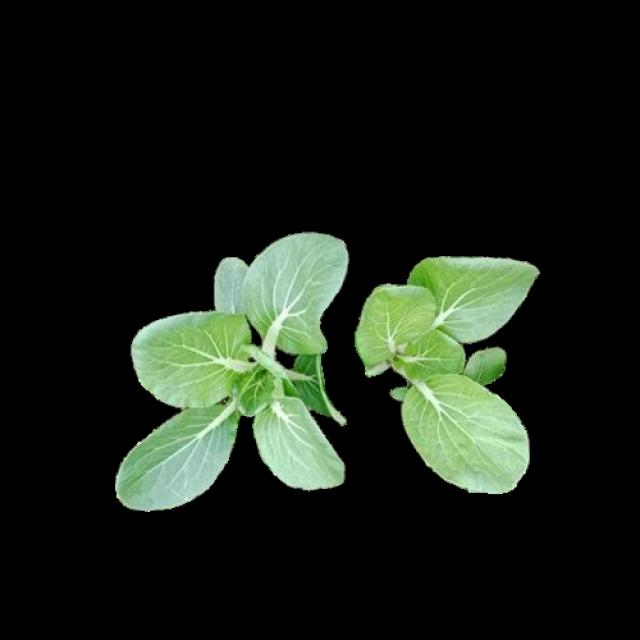healthy: (113, 230, 348, 510), (354, 251, 542, 489)
not-mature: (115, 233, 351, 512), (357, 254, 545, 492)
